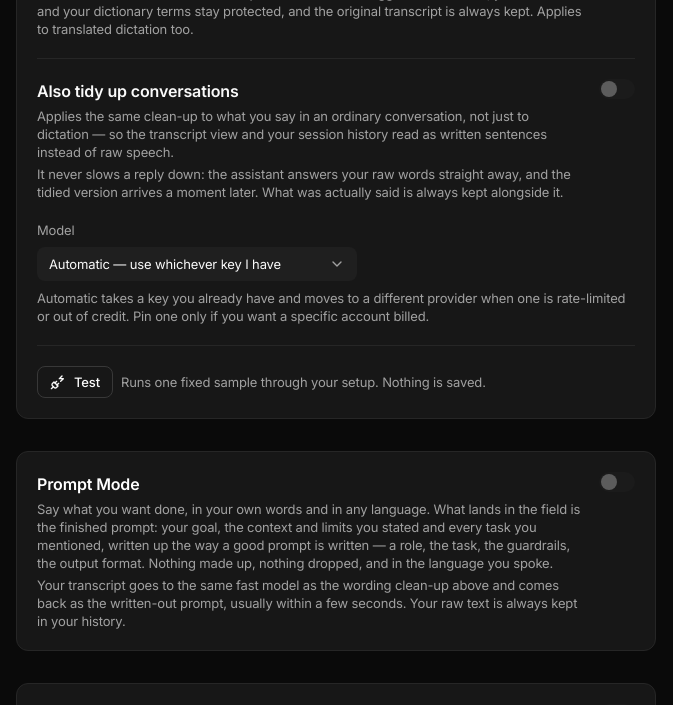
LanguageTab — the wording pass › shows the sample before and after when the test runs
This screenshot has width=673, height=705.
(page scrolled)
Step 1. Click the button with test id "dictation-polish-test" → coordinates (75, 382), box x1=37 y1=366 x2=113 y2=398
(page scrolled)
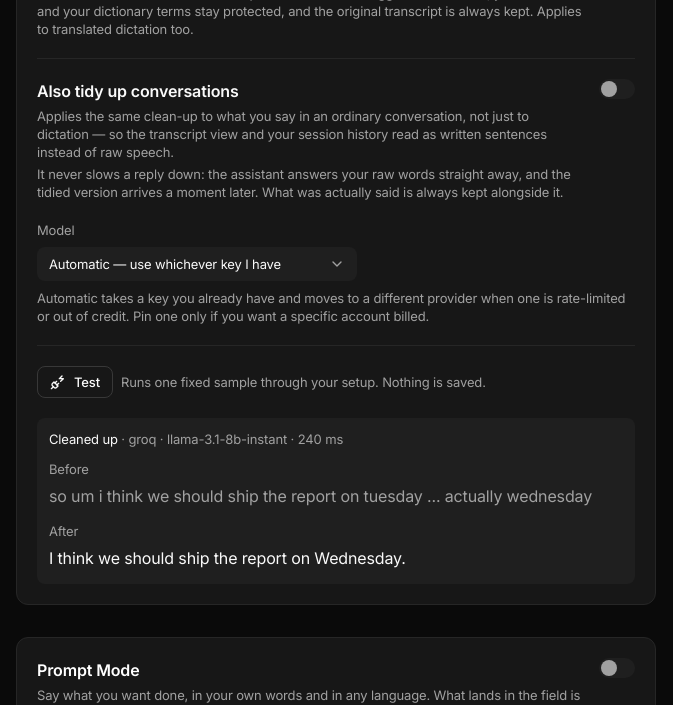
Expected: the element with test id "dictation-polish-test-result" is shown, x1=37 y1=418 x2=635 y2=584
Expected: the text with test id "dictation-polish-sample-in" reads "so um i think we should ship the report on tuesday ... actually wednesday", x1=49 y1=486 x2=592 y2=506
Expected: the text with test id "dictation-polish-sample-out" reads "I think we should ship the report on Wednesday.", x1=49 y1=548 x2=406 y2=568
